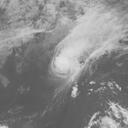cyclone: (50, 18, 102, 77)
